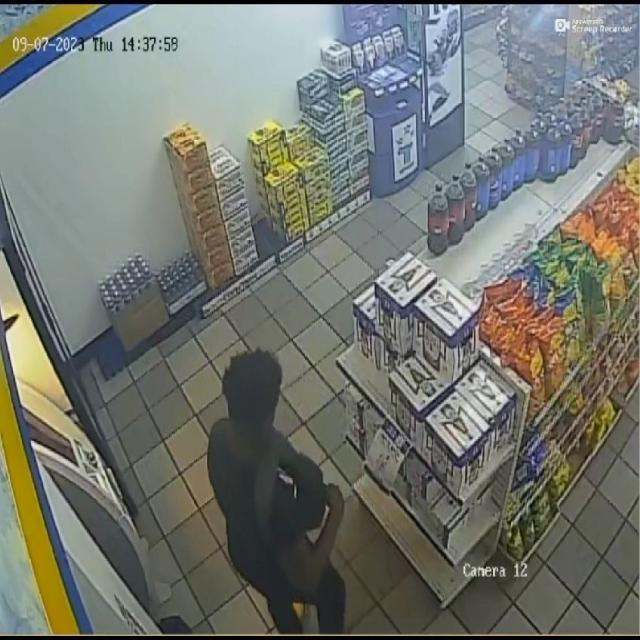Normal: (194, 331, 366, 639)
